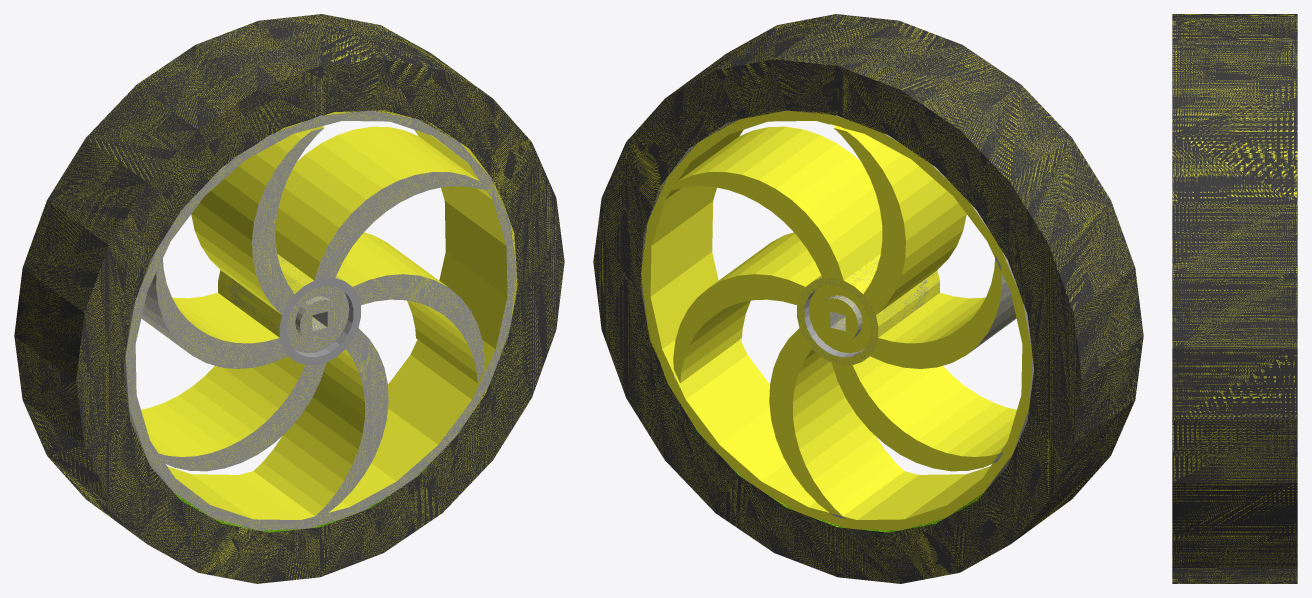
The model's file is left_wheel.dae.
The picture shows the model from 3 angles, left to right: view 1: azimuth 30°, elevation 25°; view 2: azimuth 150°, elevation 25°; view 3: azimuth 270°, elevation 25°; orthographic projection.
Parts seen in each view (by area): view 1: Component7 (×19); view 2: Component7 (×14); view 3: Component7.
Part boxes in pixels (<box>): Component7 (×19): <box>14,14,564,583</box>; Component7 (×14): <box>593,14,1143,583</box>; Component7: <box>1172,14,1297,583</box>.
Bounding box in the file's own units: 2.56 × 0.56 × 2.56.
